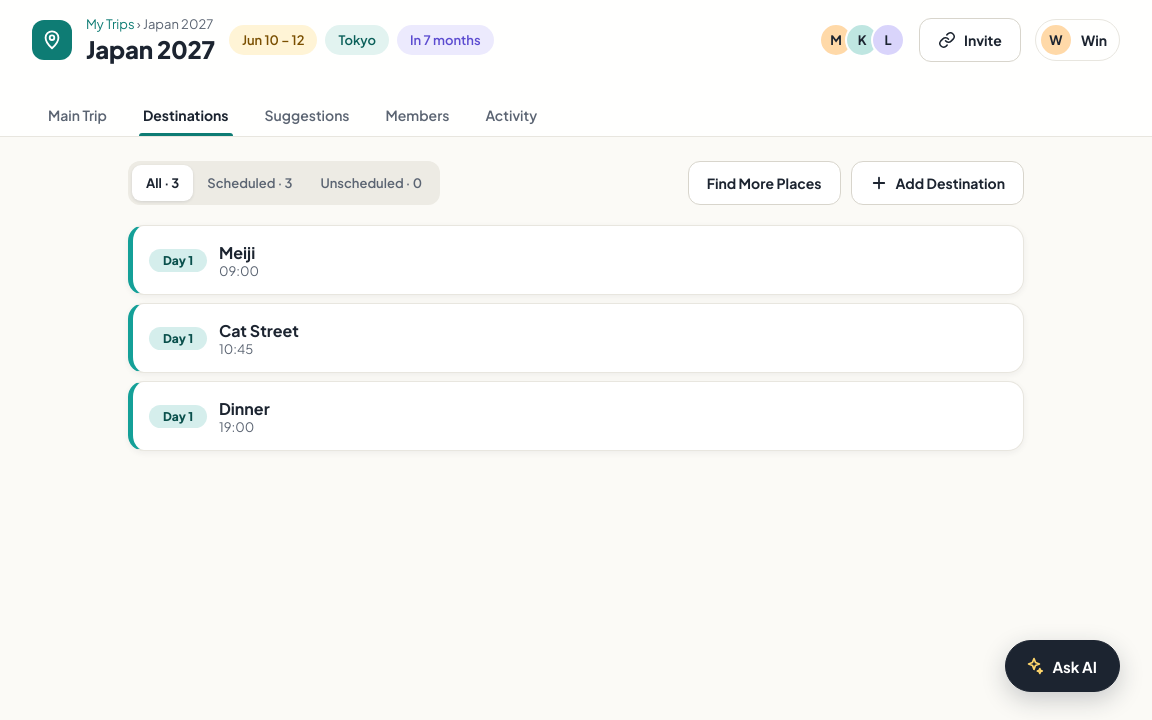
Test case: trip-wide search from Destinations and an empty result
This screenshot has width=1152, height=720.
Click the button "Find More Places" at (764, 183), box x1=688 y1=161 x2=841 y2=205
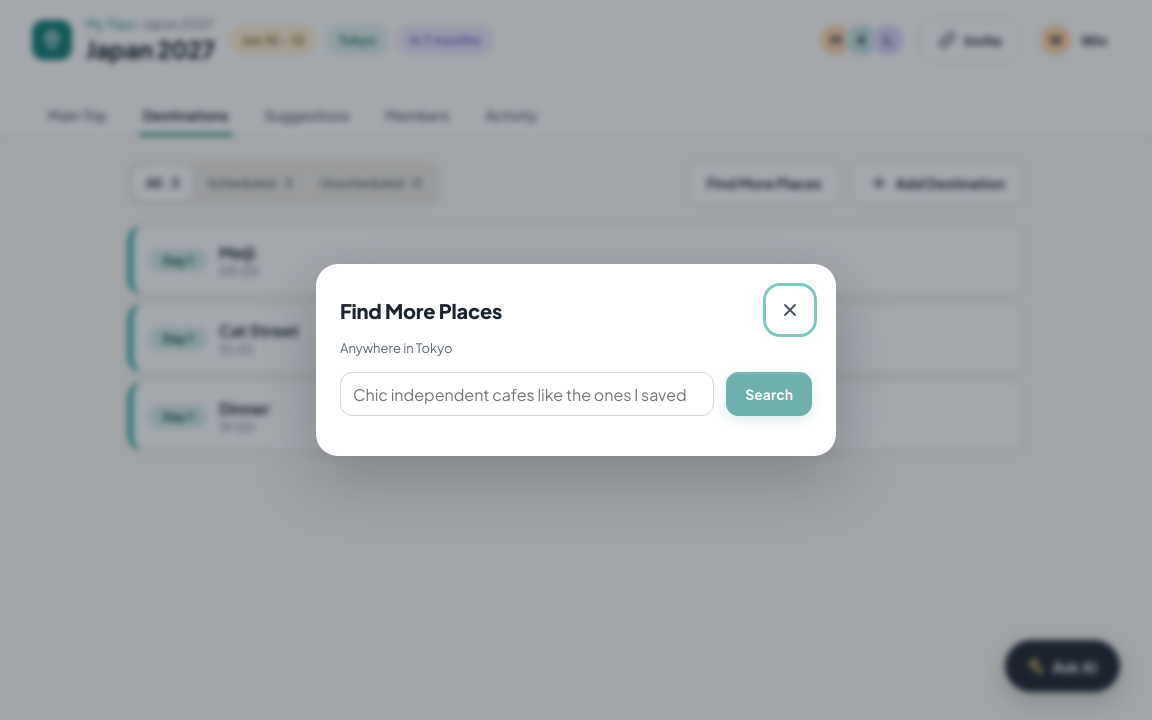
Now the text "Anywhere in Tokyo" is shown, box x1=340 y1=340 x2=452 y2=356
Type "museums" into the field named "What are you looking for?" at (527, 394), box x1=340 y1=372 x2=714 y2=416
Then press Enter
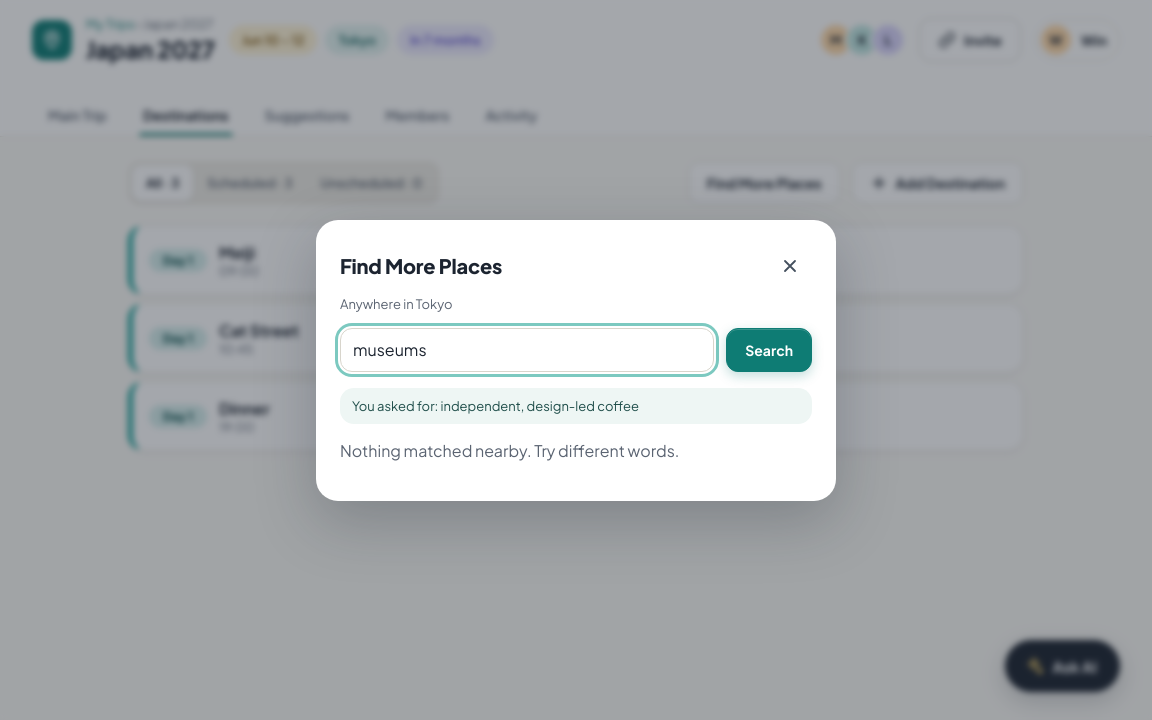
Now the text "Nothing matched nearby. Try different words." is shown, box x1=340 y1=440 x2=680 y2=460
